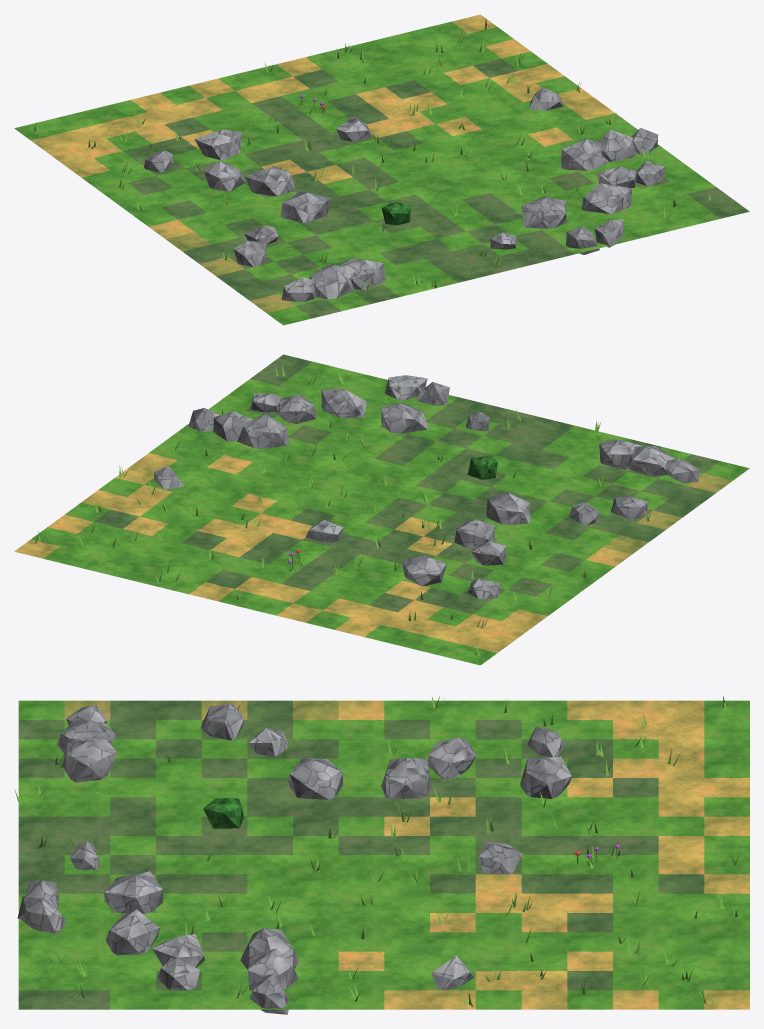
File: chunk_8_14.glb
3 views of the same model, one above another, from view 1: azimuth 30°, elevation 25°; view 2: azimuth 150°, elevation 25°; view 3: azimuth 270°, elevation 25° (orthographic). The views are drawn at different scales.
Parts seen in each view (by area): view 1: chunk_8_14; view 2: chunk_8_14; view 3: chunk_8_14.
Part boxes in pixels (x1,y1,x2,y2): chunk_8_14: [14, 14, 749, 325]; chunk_8_14: [14, 354, 749, 665]; chunk_8_14: [14, 695, 749, 1014].
Bounding box in the file's own units: 16 × 1.29 × 16.11.
Materials: 10 (7 with a texture image).
